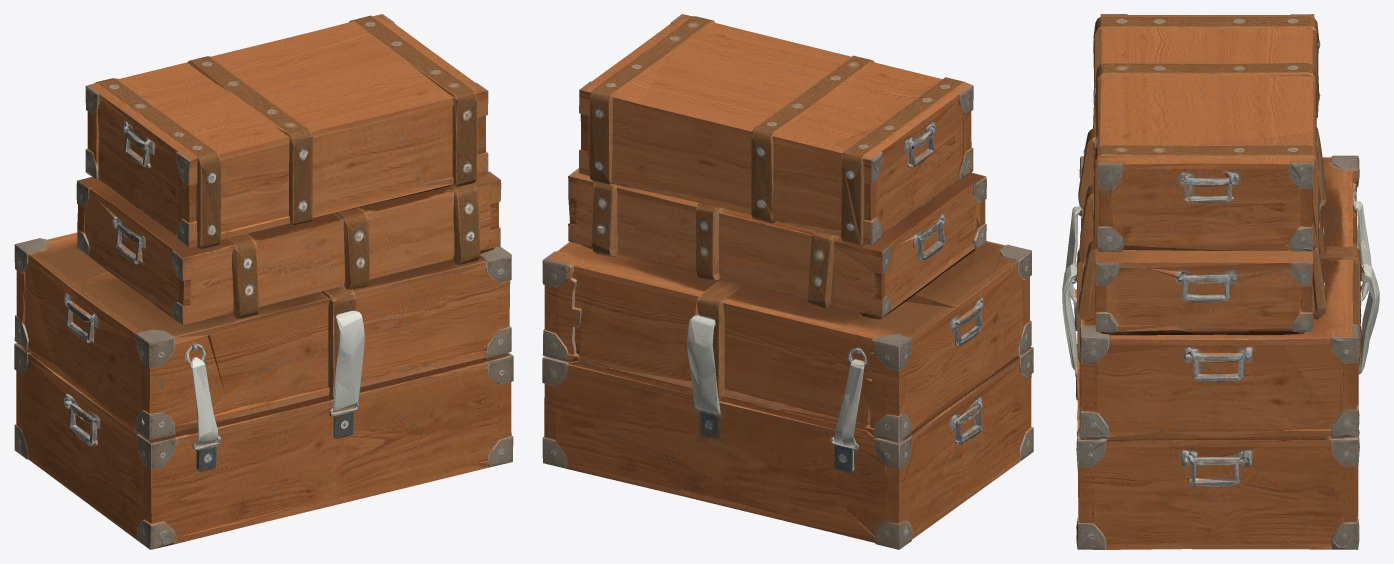
The model's file is crates.glb.
3 renders of one model, left to right at view 1: azimuth 30°, elevation 25°; view 2: azimuth 150°, elevation 25°; view 3: azimuth 270°, elevation 25°, orthographic. The views are drawn at different scales.
Visible parts, largest first — view 1: Mesh_0; view 2: Mesh_0; view 3: Mesh_0.
Boxes of the visible parts, x1,y1,x2,y2 form: Mesh_0: (14, 14, 513, 549); Mesh_0: (542, 14, 1033, 549); Mesh_0: (1062, 14, 1379, 549).
Bounding box in the file's own units: 1.9 × 1.8 × 1.36.
Materials: 1 (1 with a texture image).
